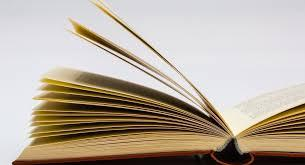Paper: (4, 1, 305, 165)
